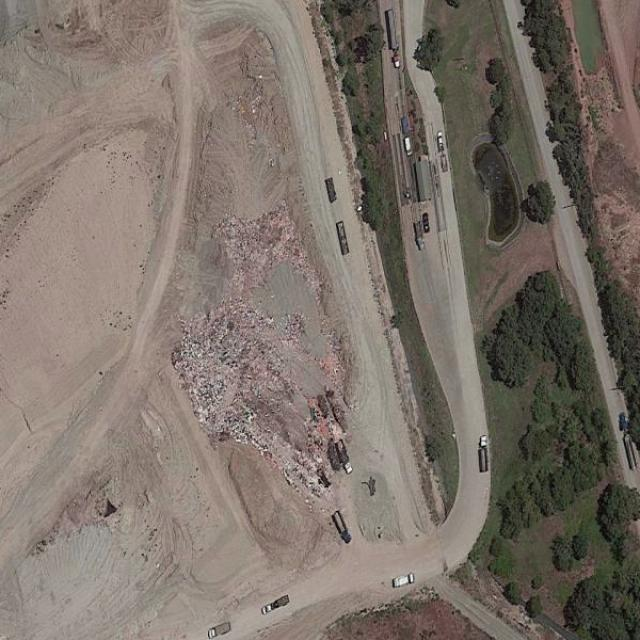dump_site: (150, 263, 364, 510), (209, 196, 325, 318)
